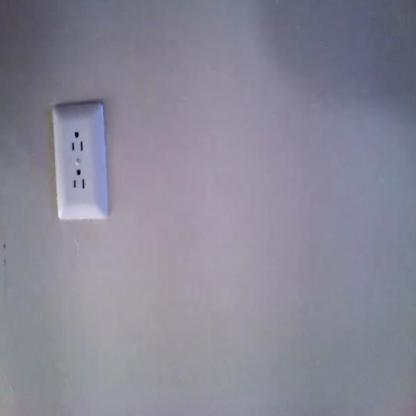OUTLET: (51, 99, 106, 221)
